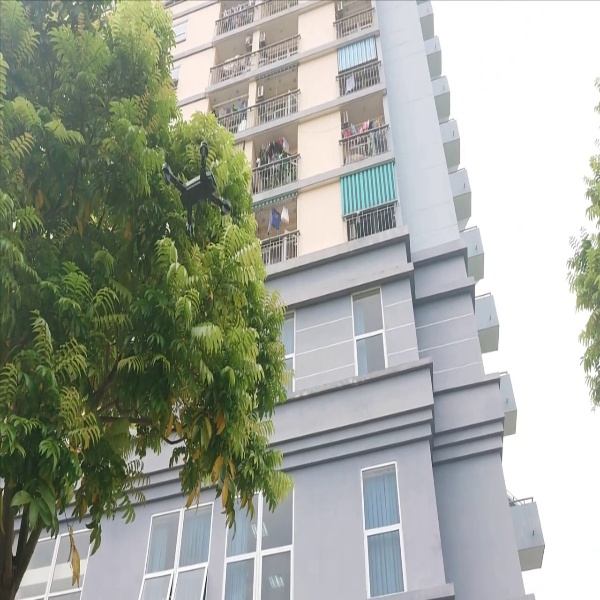drone: (157, 137, 242, 240)
